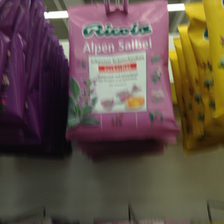candy: (66, 7, 173, 132)
